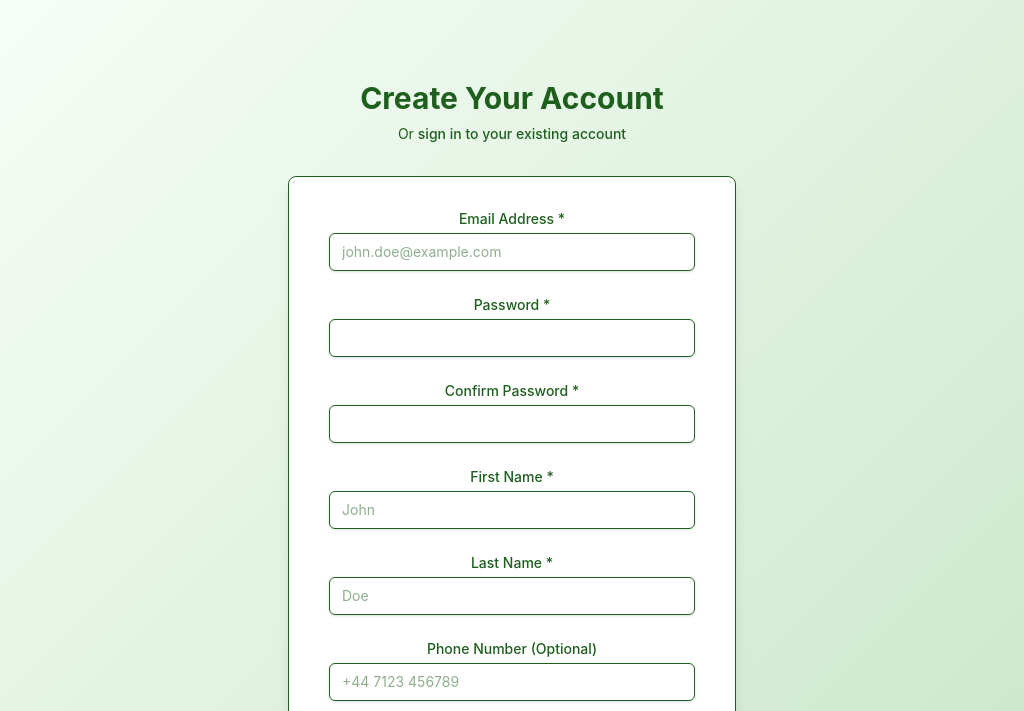
RegisterPage › Form Validation › should validate password strength
The width and height of the screenshot is (1024, 711).
In the password field labelled "Password *": (512, 338) left=329, top=319, right=695, bottom=357, type "weak"
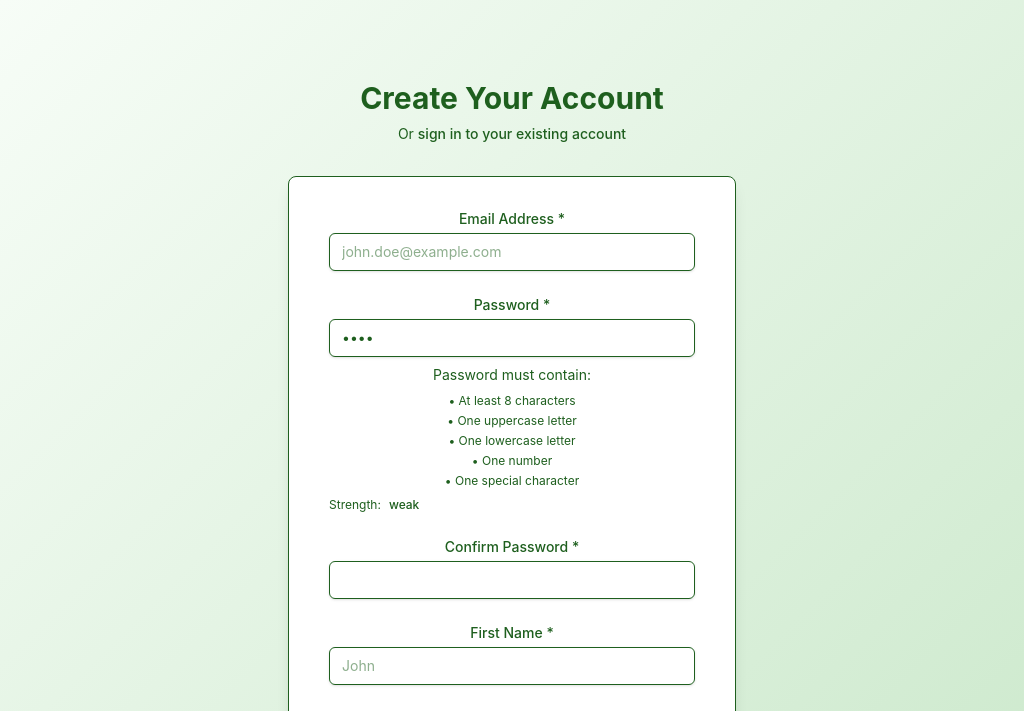
Press Tab
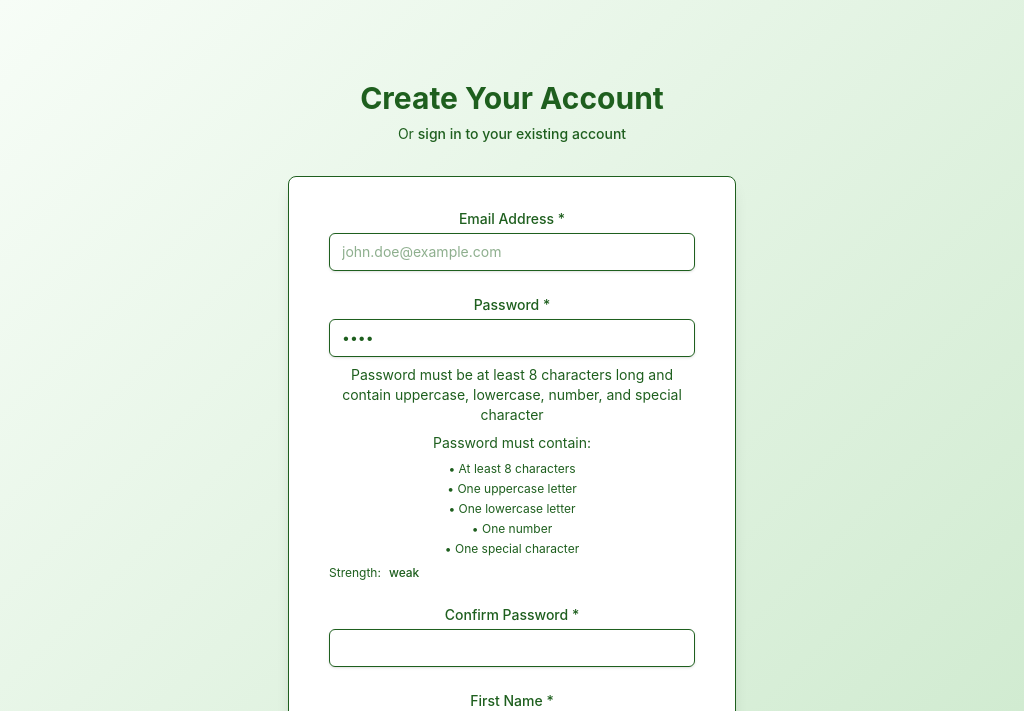
Expected: the text "Password must be at least 8 characters" is shown, left=342, top=366, right=682, bottom=423
